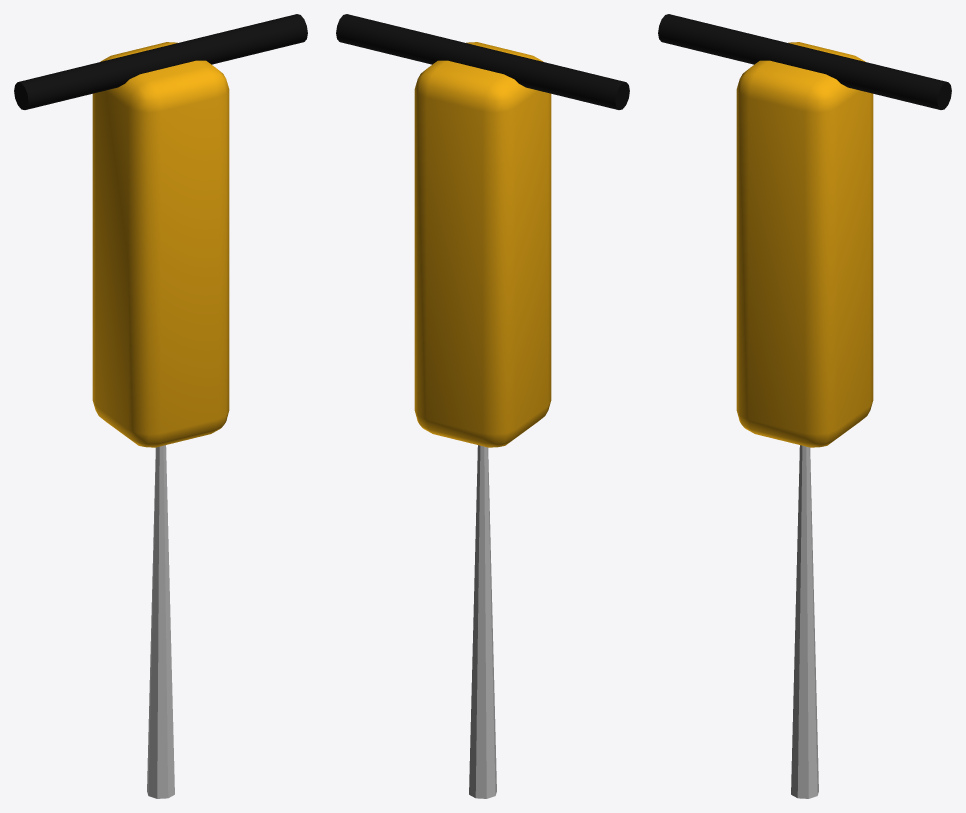
File: plant.tool.breaker.glb
The picture shows the model from 3 angles, left to right: view 1: azimuth 30°, elevation 25°; view 2: azimuth 150°, elevation 25°; view 3: azimuth 330°, elevation 25°; orthographic projection.
Parts seen in each view (by area): view 1: main__plant_yellow, main__plastic_black, main__steel_stainless; view 2: main__plant_yellow, main__plastic_black, main__steel_stainless; view 3: main__plant_yellow, main__plastic_black, main__steel_stainless.
Boxes of the visible parts, x1,y1,x2,y2 form: main__plant_yellow: (92,42,229,447); main__plastic_black: (14,14,307,109); main__steel_stainless: (147,445,174,798); main__plant_yellow: (414,42,551,447); main__plastic_black: (336,14,629,109); main__steel_stainless: (469,445,496,798); main__plant_yellow: (736,42,873,447); main__plastic_black: (658,14,951,109); main__steel_stainless: (791,445,818,798).
Size of the model in its own units: 0.4 by 1.02 by 0.14.
